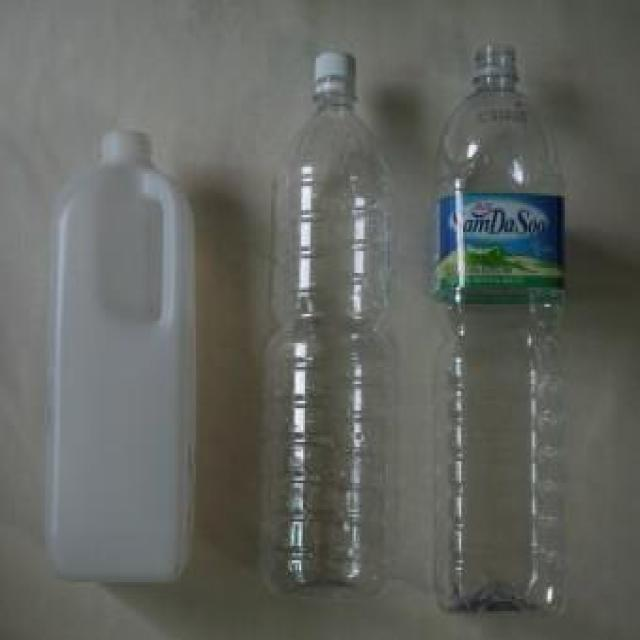bottle: (426, 40, 572, 607), (250, 44, 390, 596), (43, 130, 209, 580)
